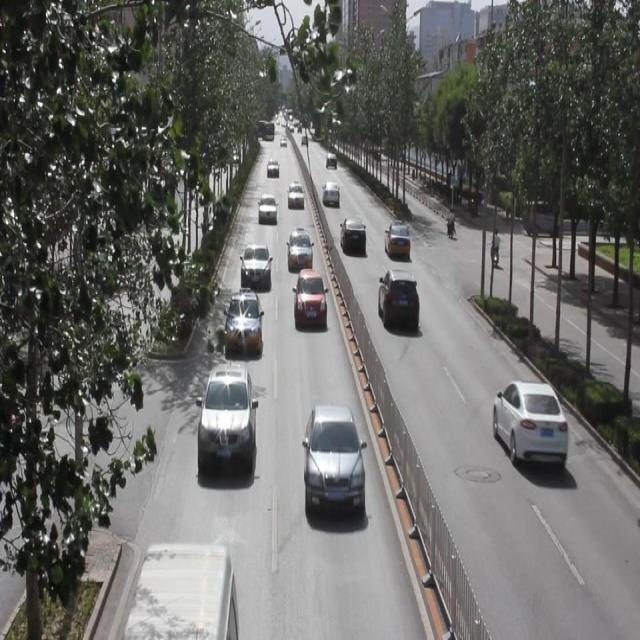car: (482, 380, 584, 482), (294, 410, 378, 514), (187, 372, 268, 472), (365, 270, 435, 334), (216, 286, 268, 354), (288, 270, 340, 330), (239, 233, 279, 294), (287, 223, 328, 261), (383, 222, 424, 254), (316, 176, 358, 207), (260, 191, 284, 231), (346, 215, 372, 248), (288, 182, 306, 208), (325, 148, 352, 162)
